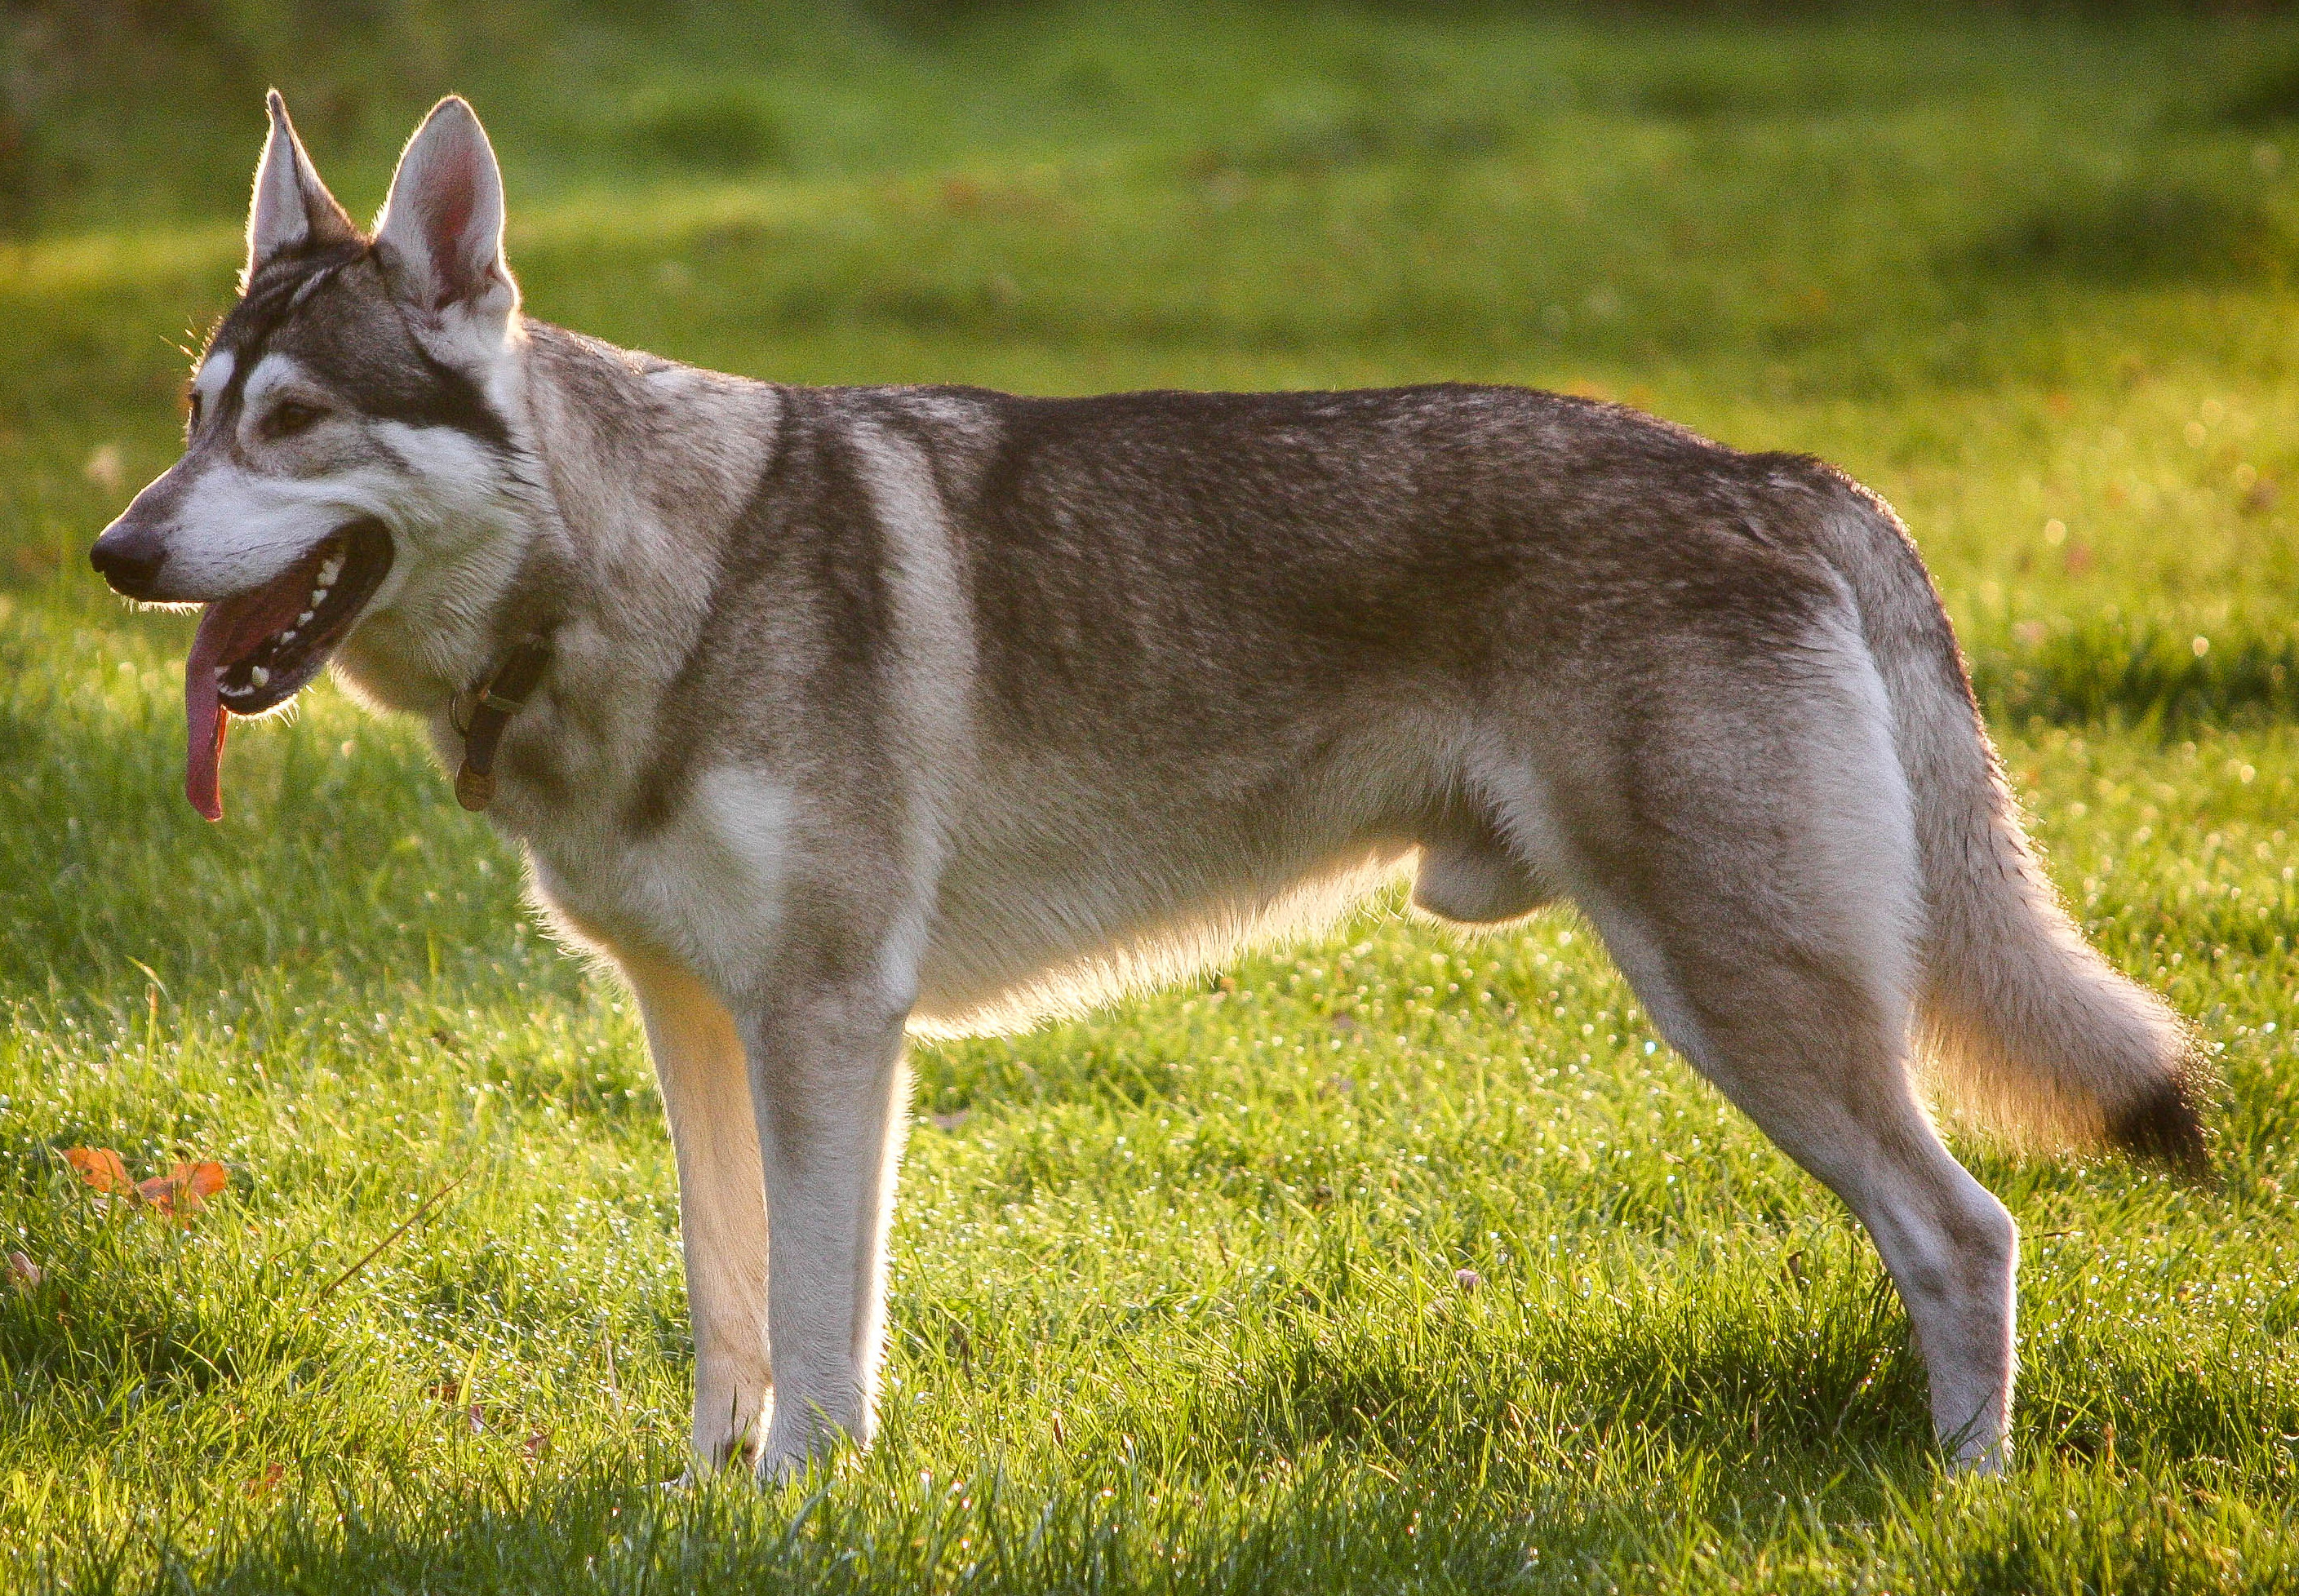dog: (0, 0, 2299, 1596)
